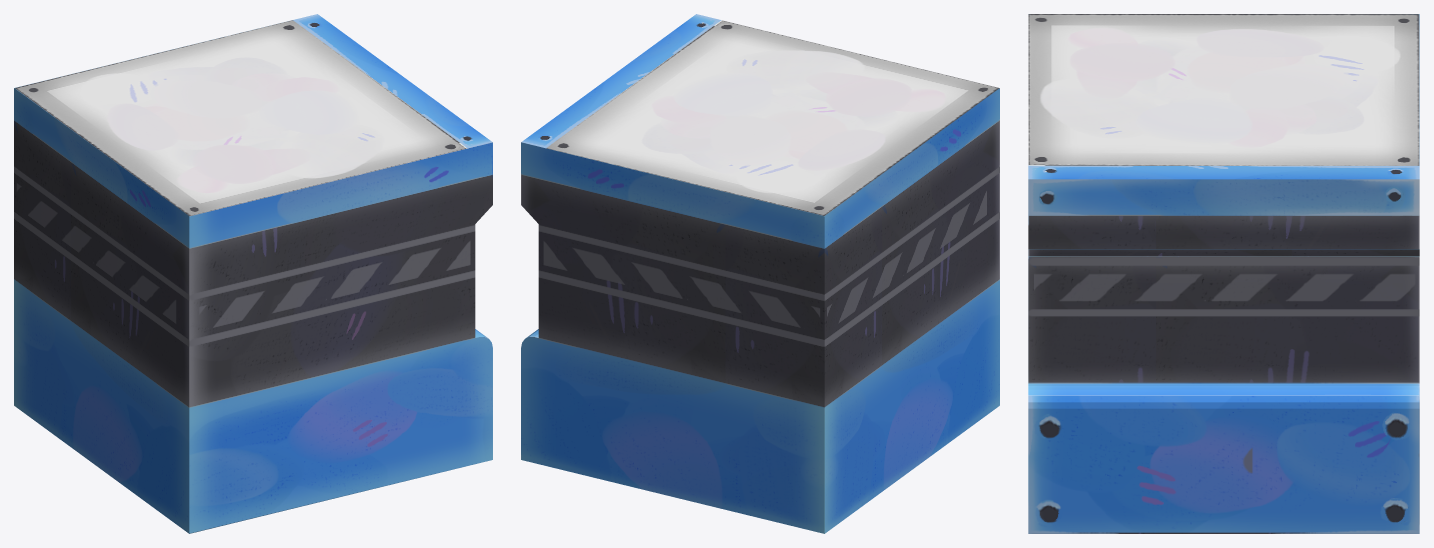
File: TestCube_4.1.glb
3 views of the same model, side by side, from view 1: azimuth 30°, elevation 25°; view 2: azimuth 150°, elevation 25°; view 3: azimuth 270°, elevation 25° (orthographic). The views are drawn at different scales.
Parts seen in each view (by area): view 1: TestCube_4.1; view 2: TestCube_4.1; view 3: TestCube_4.1.
Part boxes in pixels (box(x1,y1,x2,y2)): TestCube_4.1: box(14, 14, 492, 533); TestCube_4.1: box(521, 14, 999, 533); TestCube_4.1: box(1028, 14, 1419, 533).
Size of the model in its own units: 1 by 1 by 1.
1 material, 1 textured.
